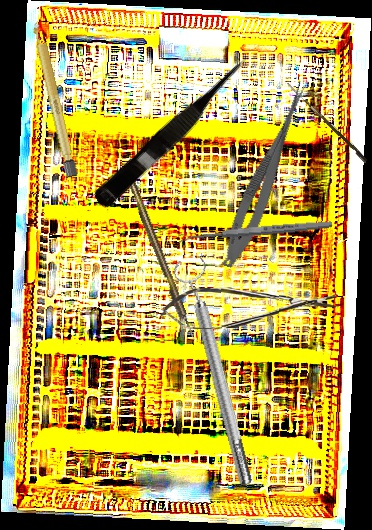Fixation Ring: (170, 254, 263, 490)
Hook Surgical: (122, 167, 197, 343), (283, 82, 370, 164)
Micro Scissor: (91, 51, 259, 214), (216, 75, 314, 273), (160, 285, 340, 330)
Scalpel Handle: (30, 19, 79, 179)
Surgical Spoon: (177, 219, 333, 243)
